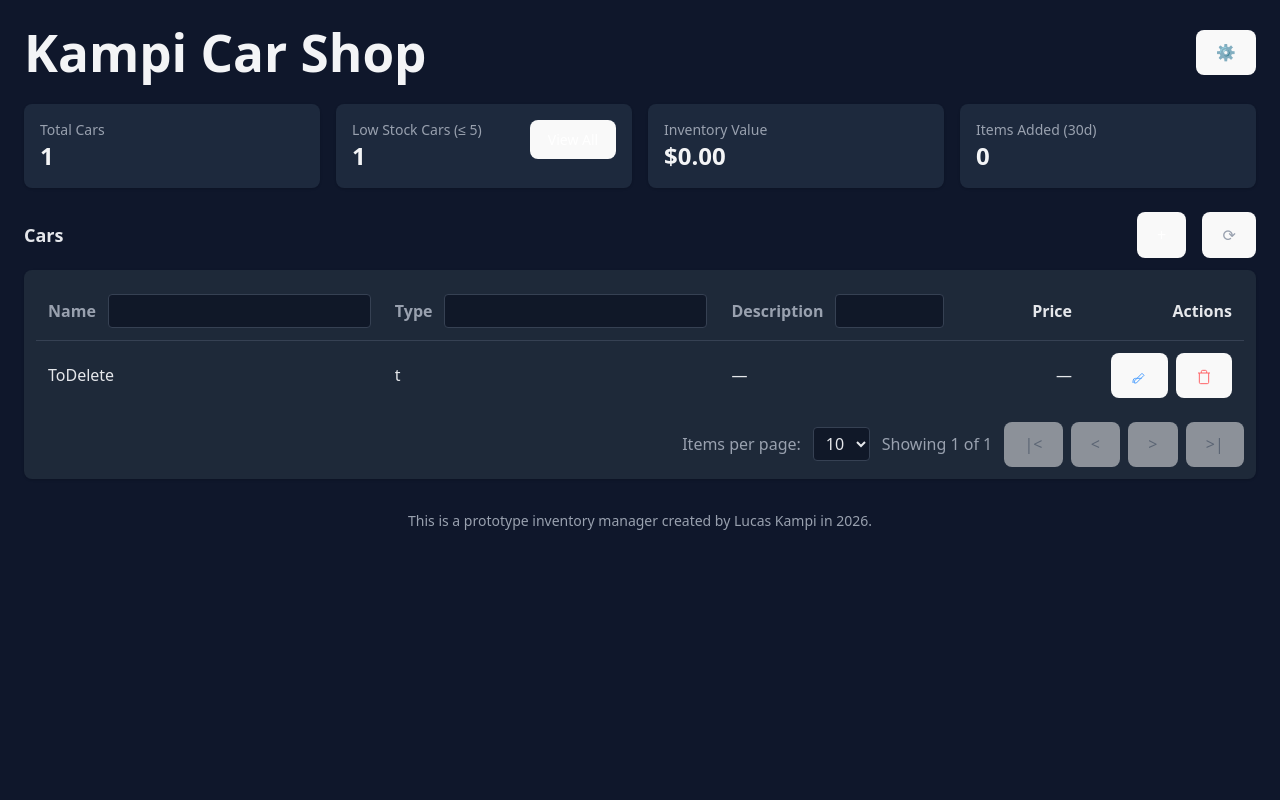
Test: delete error branch displays error message
Check: the text "ToDelete" is shown, box [36,340,383,410]
Click the button titled "Delete": x=1204, y=375 [1176,352,1232,398]
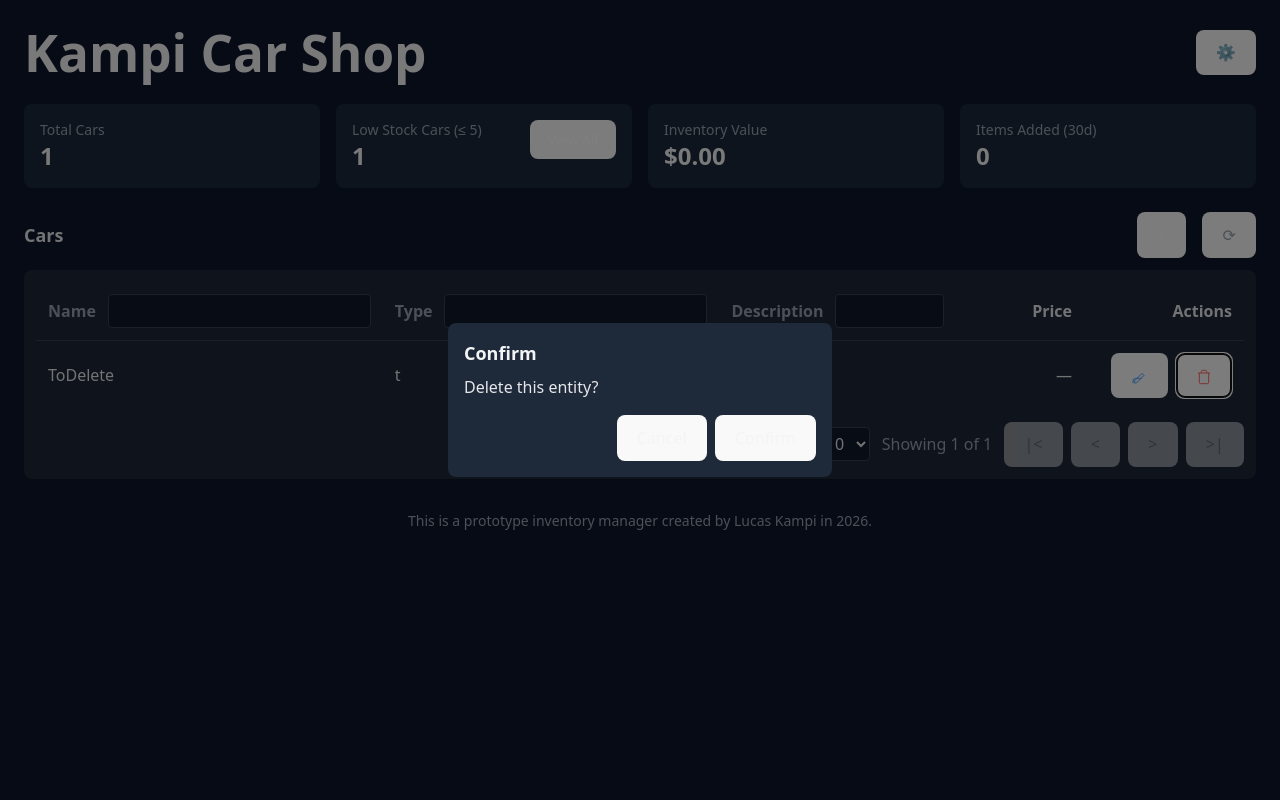
Check: the dialog with test id "confirm-dialog" is shown
Click the button "Confirm": x=765, y=438 [715,415,816,461]
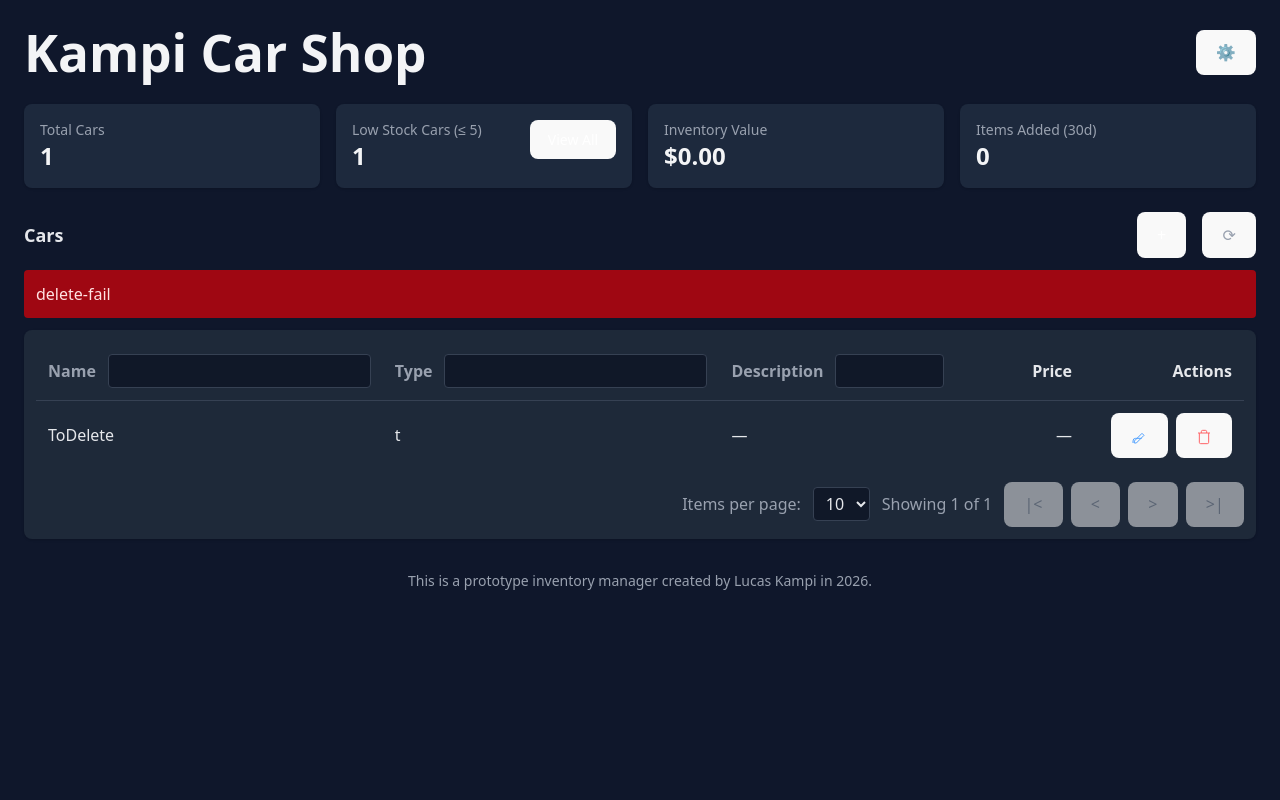
Check: the text "delete-fail" is shown, box [24,270,1256,318]
